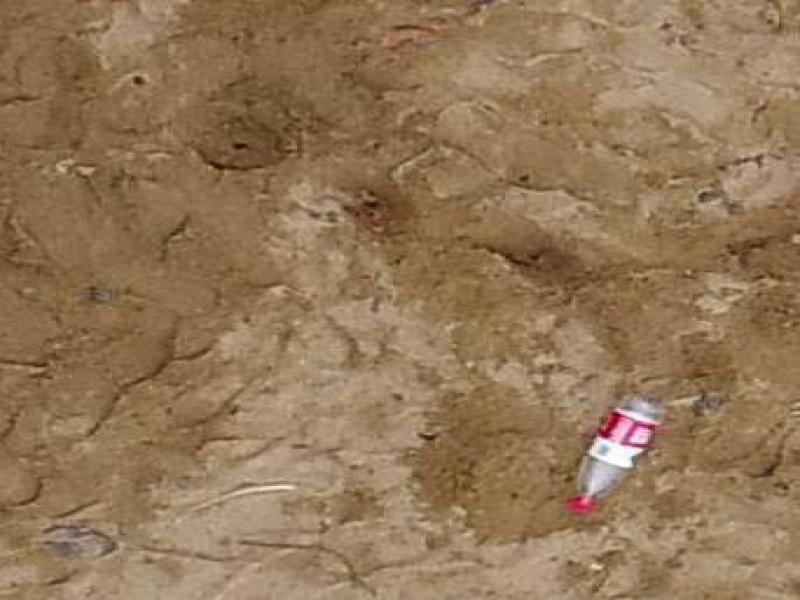bottle: (552, 384, 677, 524)
